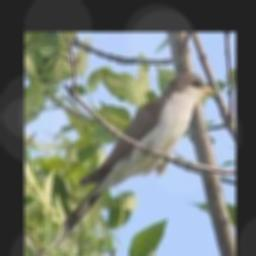Cuckoo: (50, 73, 216, 246)
